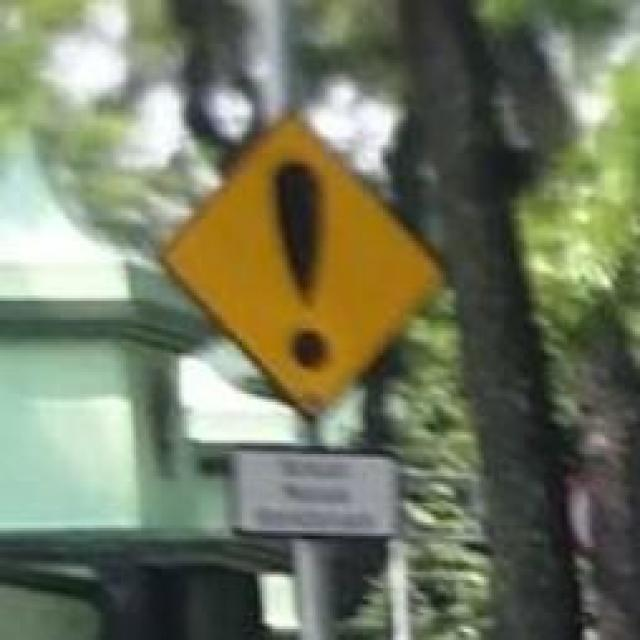traffic sign: (164, 115, 448, 418)
